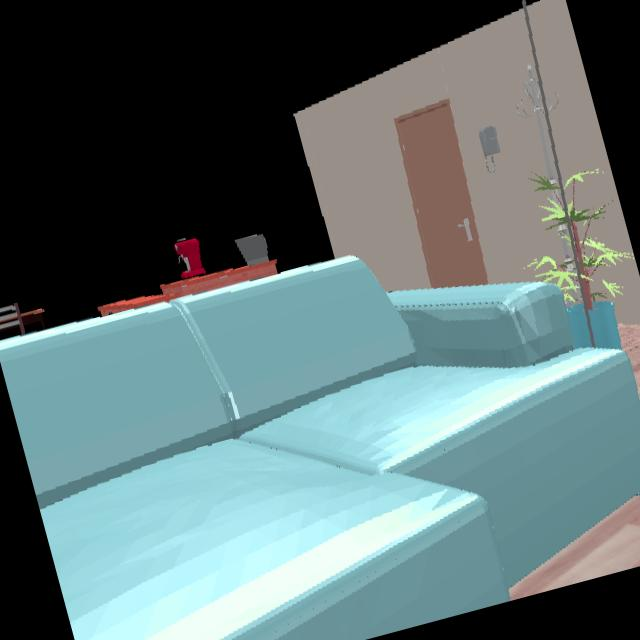countertop: (98, 261, 278, 318)
sofa: (0, 256, 640, 640)
